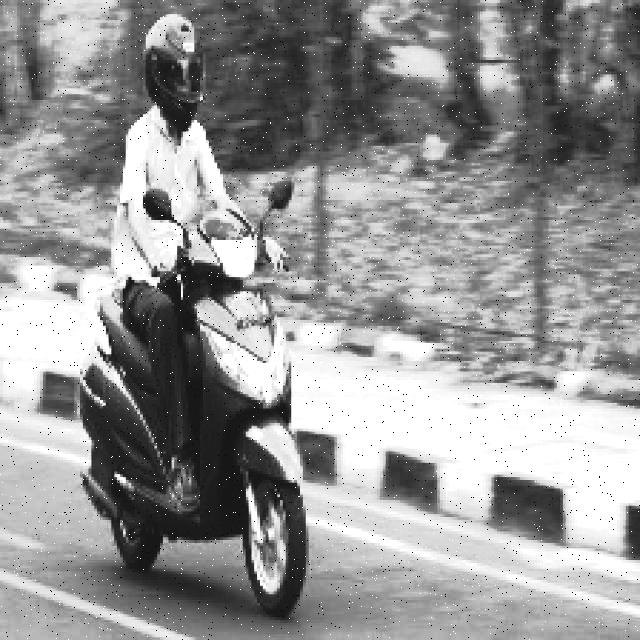Bike: (77, 229, 323, 611)
